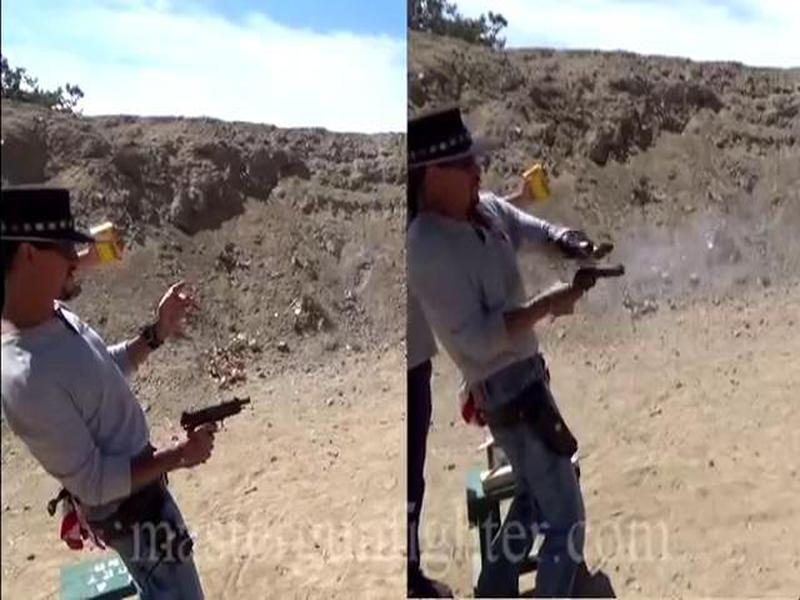Pistola: (174, 393, 258, 464)
Revolver: (565, 256, 629, 317)
